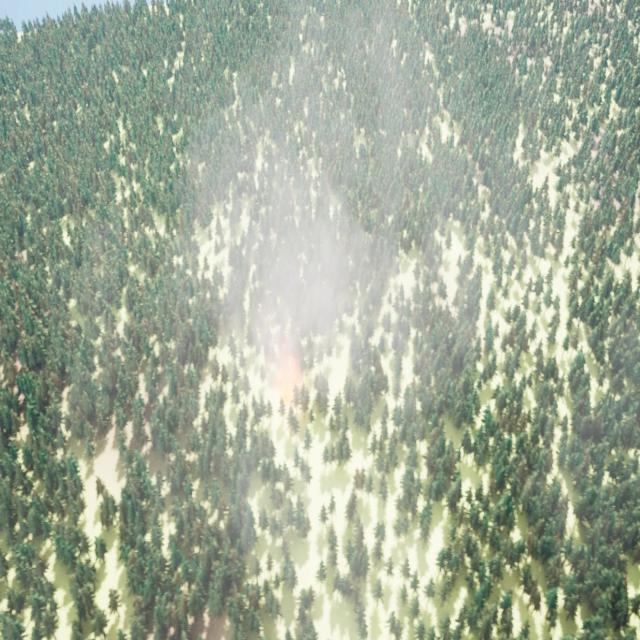fire: (273, 346, 300, 406)
smoke: (130, 7, 478, 639)
